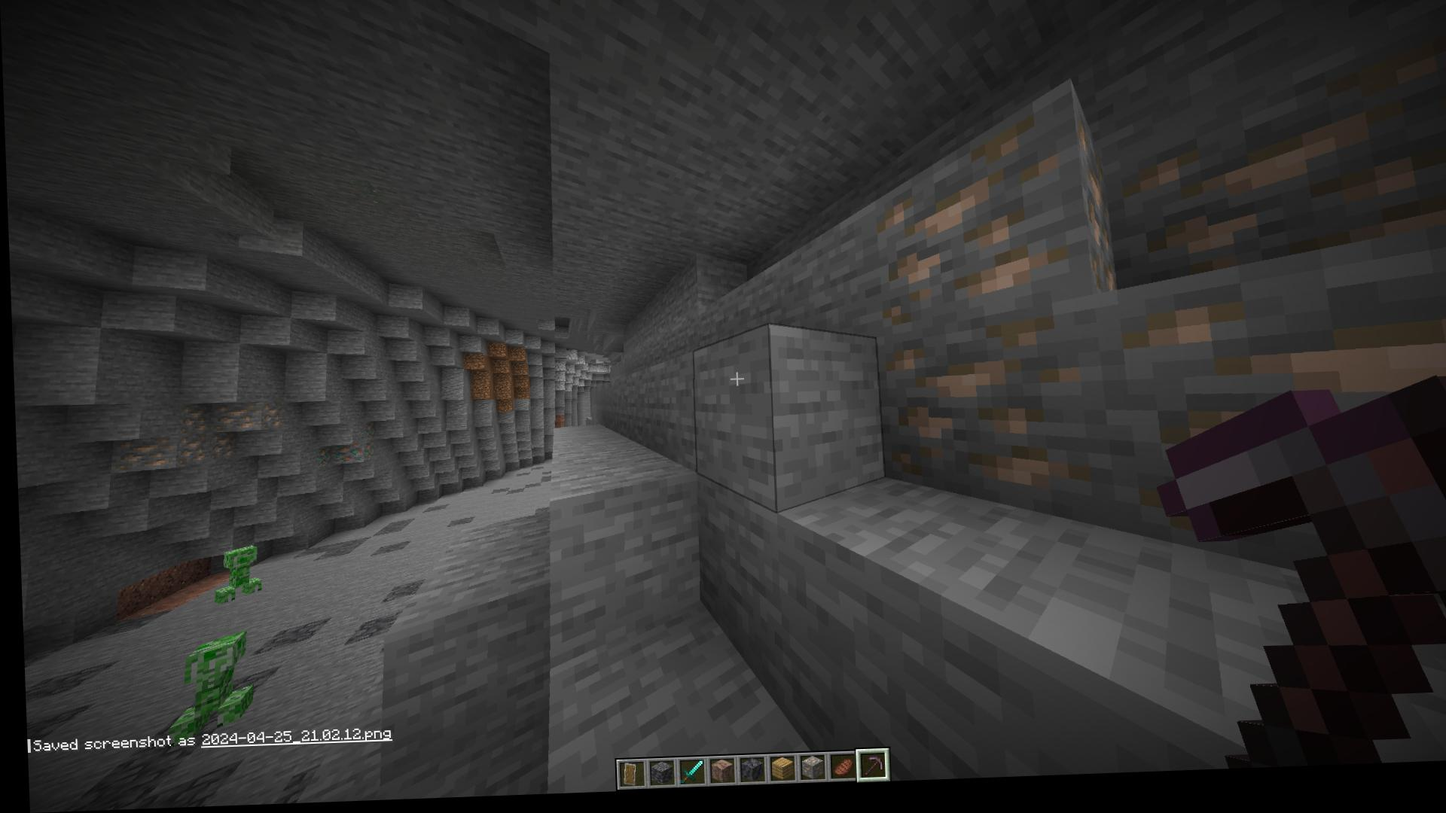iron ore: (1113, 84, 1446, 274), (1112, 275, 1446, 443), (870, 341, 1088, 522), (871, 122, 1070, 317), (105, 438, 175, 477), (212, 401, 255, 434), (175, 405, 205, 437), (208, 434, 237, 464), (176, 436, 203, 468), (257, 403, 279, 432)
